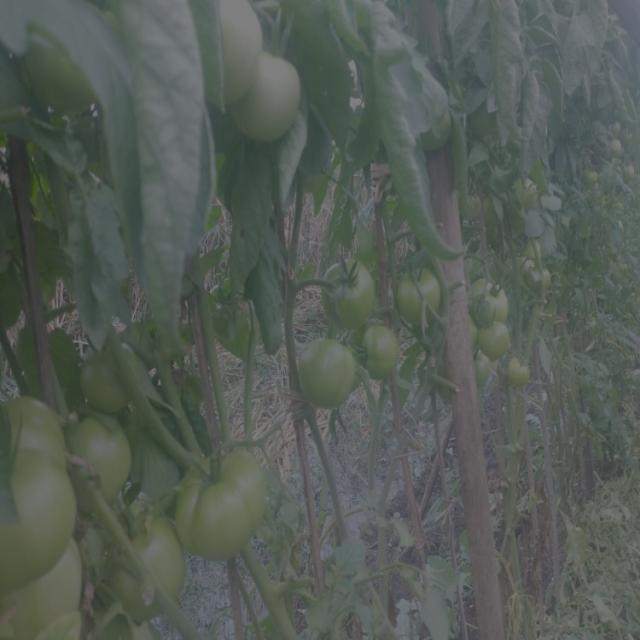tomato: (174, 432, 276, 555), (1, 466, 72, 586), (284, 320, 366, 406), (122, 511, 186, 605), (63, 412, 136, 494), (241, 56, 306, 144), (205, 1, 260, 99), (18, 37, 92, 104), (1, 395, 66, 465), (75, 345, 136, 413), (9, 590, 91, 640), (318, 250, 380, 314), (396, 259, 448, 324), (363, 317, 410, 376), (467, 275, 515, 324), (512, 170, 546, 218), (502, 354, 532, 391), (478, 324, 513, 355)
